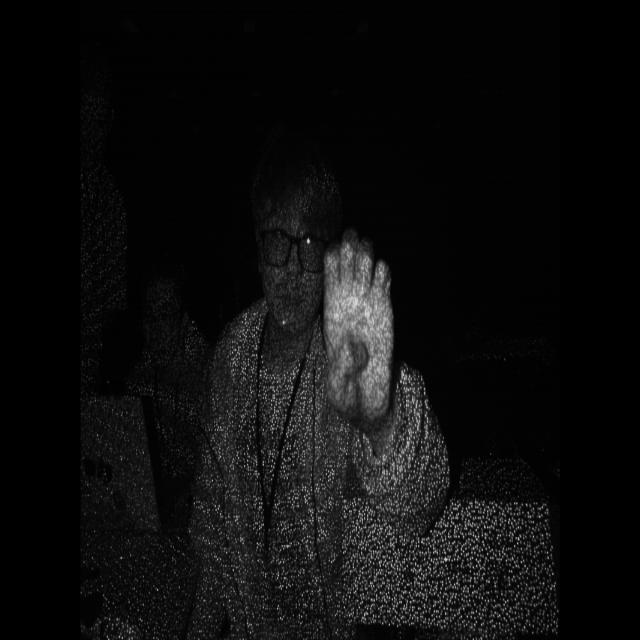E: (317, 224, 426, 454)
